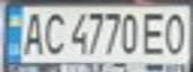0: (121, 9, 142, 56)
4: (66, 9, 90, 55)
7: (84, 9, 106, 55), (103, 9, 124, 55)
A: (18, 9, 45, 56)
C: (39, 9, 69, 56)
E: (139, 8, 172, 56)
O: (160, 8, 193, 56)
